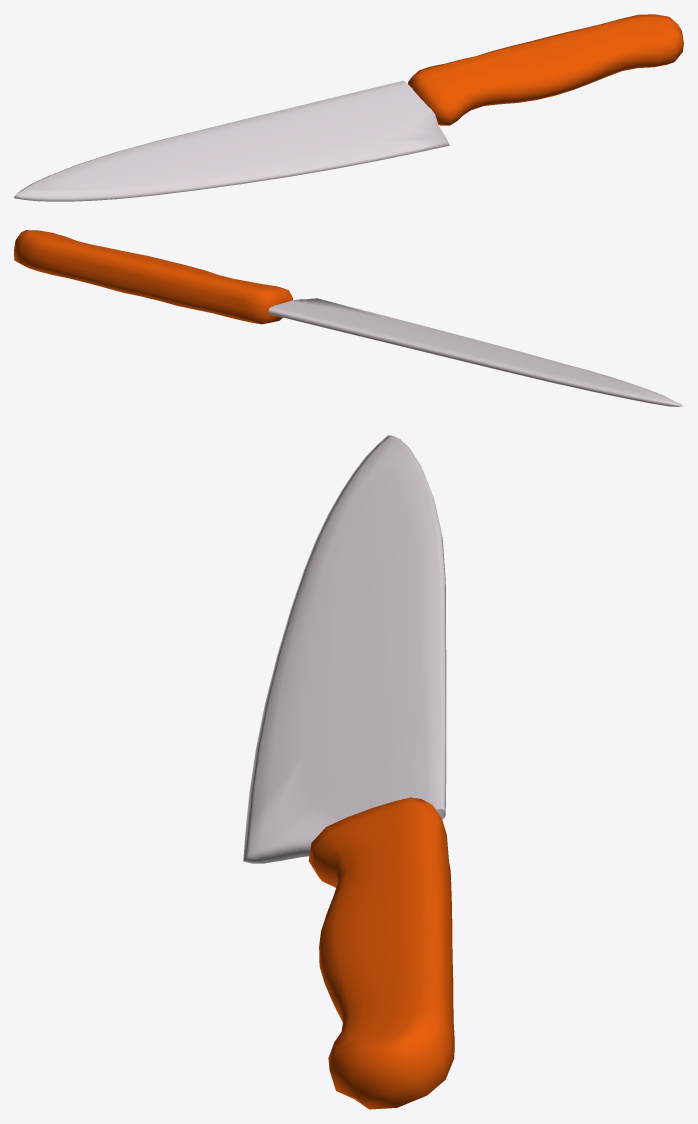
Rendered from knife_new.fbx.
3 views of the same model, one above another, from view 1: azimuth 30°, elevation 25°; view 2: azimuth 150°, elevation 25°; view 3: azimuth 270°, elevation 25° (orthographic). The views are drawn at different scales.
Visible parts, largest first — view 1: polySurface8, polySurface7; view 2: polySurface7, polySurface8; view 3: polySurface8, polySurface7.
Part boxes in pixels (x1=…): polySurface8: x1=14, y1=80, x2=449, y2=201; polySurface7: x1=408, y1=14, x2=683, y2=125; polySurface7: x1=14, y1=230, x2=292, y2=324; polySurface8: x1=268, y1=298, x2=683, y2=406; polySurface8: x1=243, y1=435, x2=446, y2=863; polySurface7: x1=308, y1=797, x2=454, y2=1109.
Bounding box in the file's own units: 29.37 × 1.7 × 4.04.
